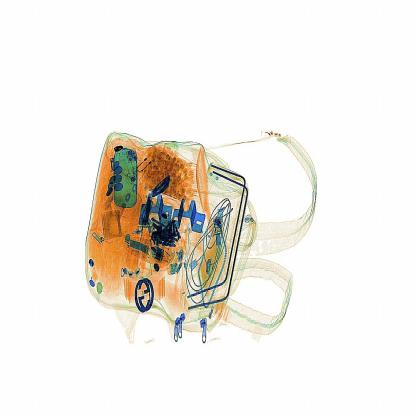knife: (147, 168, 182, 204)
